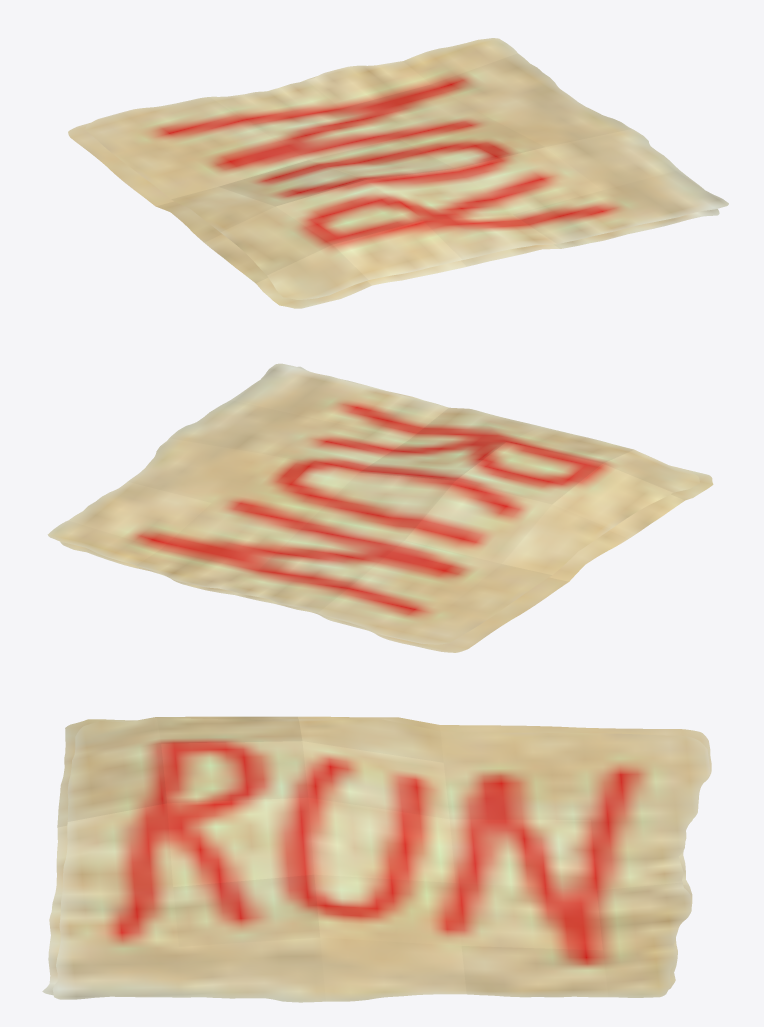
File: note.fbx
3 views of the same model, one above another, from view 1: azimuth 30°, elevation 25°; view 2: azimuth 150°, elevation 25°; view 3: azimuth 270°, elevation 25° (orthographic). The views are drawn at different scales.
Parts seen in each view (by area): view 1: note; view 2: note; view 3: note.
Part boxes in pixels (x1,y1,x2,y2): note: (68,38,728,308); note: (47,363,713,652); note: (42,716,711,1002).
Bounding box in the file's own units: 208 × 12.15 × 208.
1 material, 1 textured.
